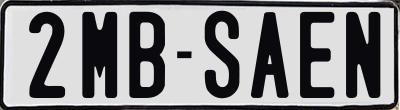2: (26, 10, 66, 97)
A: (248, 12, 288, 99)
B: (126, 11, 163, 99)
E: (297, 9, 333, 99)
M: (80, 12, 118, 100)
N: (343, 11, 377, 101)
S: (202, 11, 242, 104)
